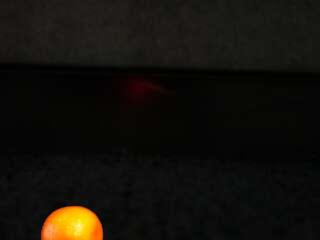Orange: (41, 206, 104, 240)
